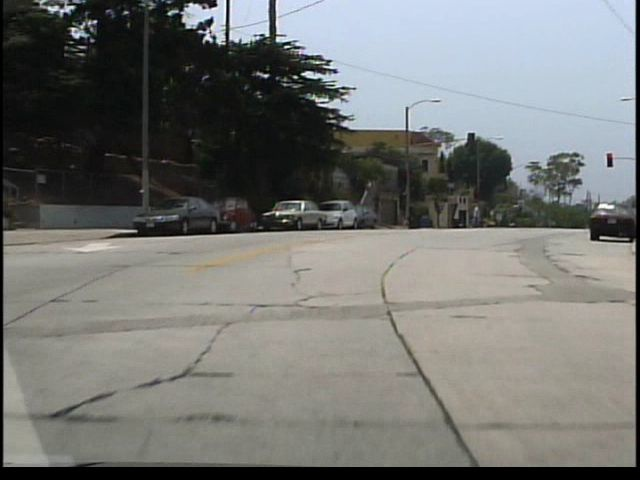person: (473, 205, 482, 230)
